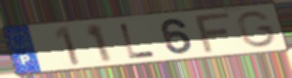1: (53, 25, 82, 68), (85, 23, 115, 64)
6: (159, 17, 195, 56)
F: (193, 10, 234, 55)
G: (236, 10, 279, 49)
L: (118, 22, 159, 60)
